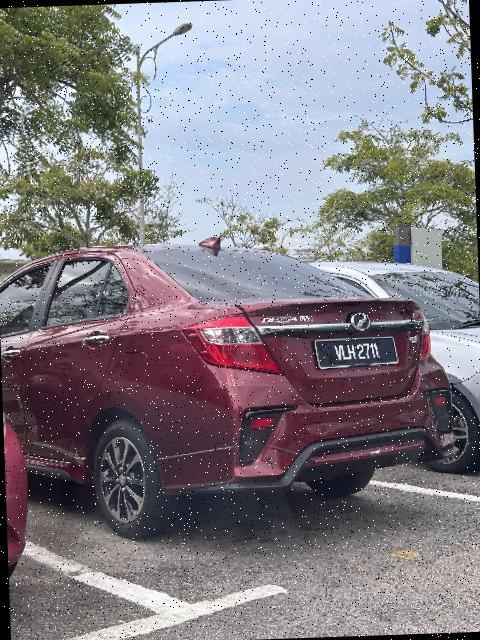License_Plate: (310, 334, 402, 375)
VLH2711: (310, 334, 402, 375)
car: (1, 217, 470, 553), (257, 248, 480, 503)
